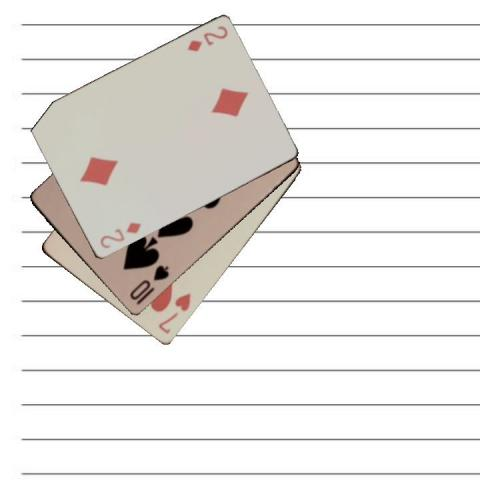10s: (126, 262, 170, 302)
2d: (97, 219, 142, 251), (184, 23, 229, 53)
7h: (155, 291, 193, 336)
